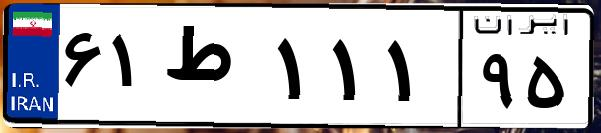1: (270, 28, 330, 110), (385, 28, 445, 110), (330, 28, 385, 110), (110, 28, 158, 98)
5: (525, 38, 570, 115)
6: (57, 26, 110, 100)
9: (475, 38, 525, 113)
ط: (158, 20, 270, 120)
